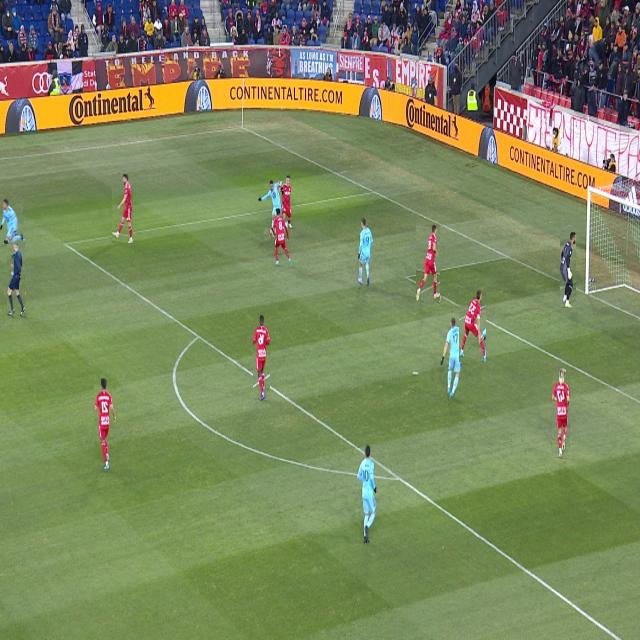goalkeeper: (560, 232, 576, 308)
player: (440, 317, 466, 401), (357, 446, 377, 543), (95, 379, 116, 470), (460, 291, 486, 362), (417, 226, 440, 301), (552, 368, 570, 458), (112, 174, 133, 243), (253, 316, 270, 400), (270, 209, 292, 268), (258, 180, 281, 233), (358, 218, 373, 287), (0, 199, 23, 244), (278, 174, 292, 229), (271, 228, 275, 237), (17, 252, 22, 258), (280, 182, 282, 187)
referee: (8, 240, 25, 316)
